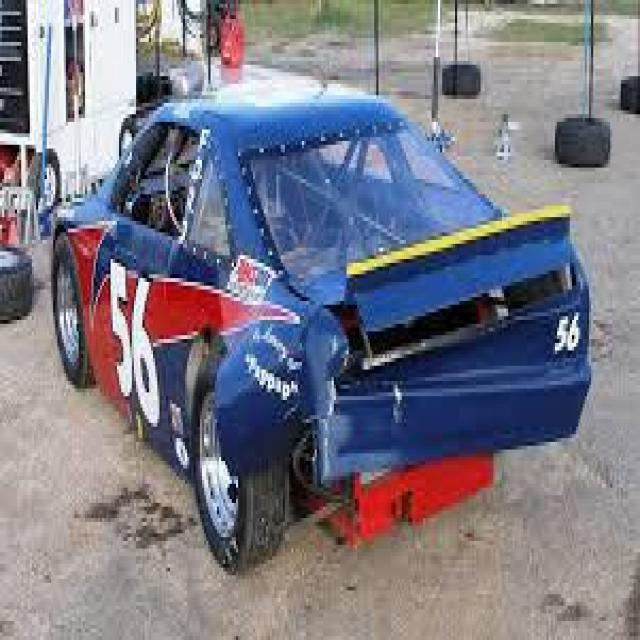damaged: (215, 240, 584, 499)
